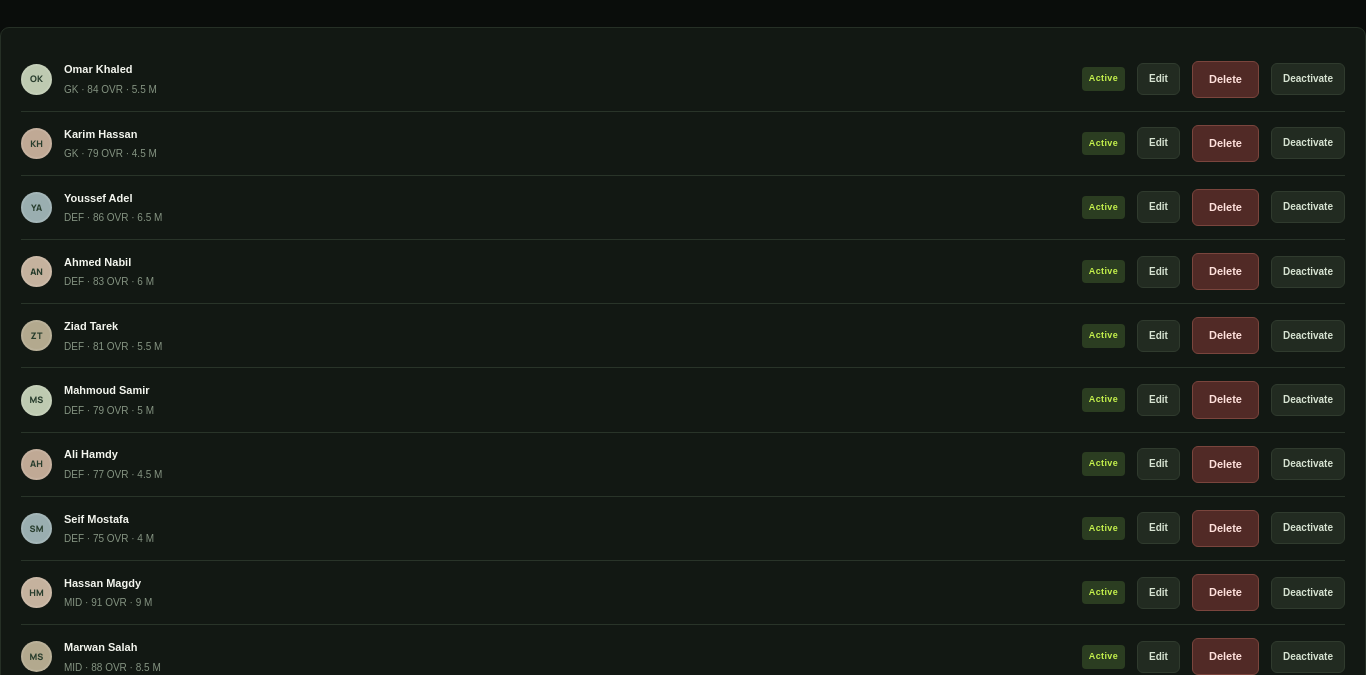
Test case: player management form actions › requires confirmation and removes an edited player from the active market
This screenshot has width=1366, height=675.
Click the button "Edit" in the row of "Omar Khaled" at (1158, 79), box [1137,63,1180,95]
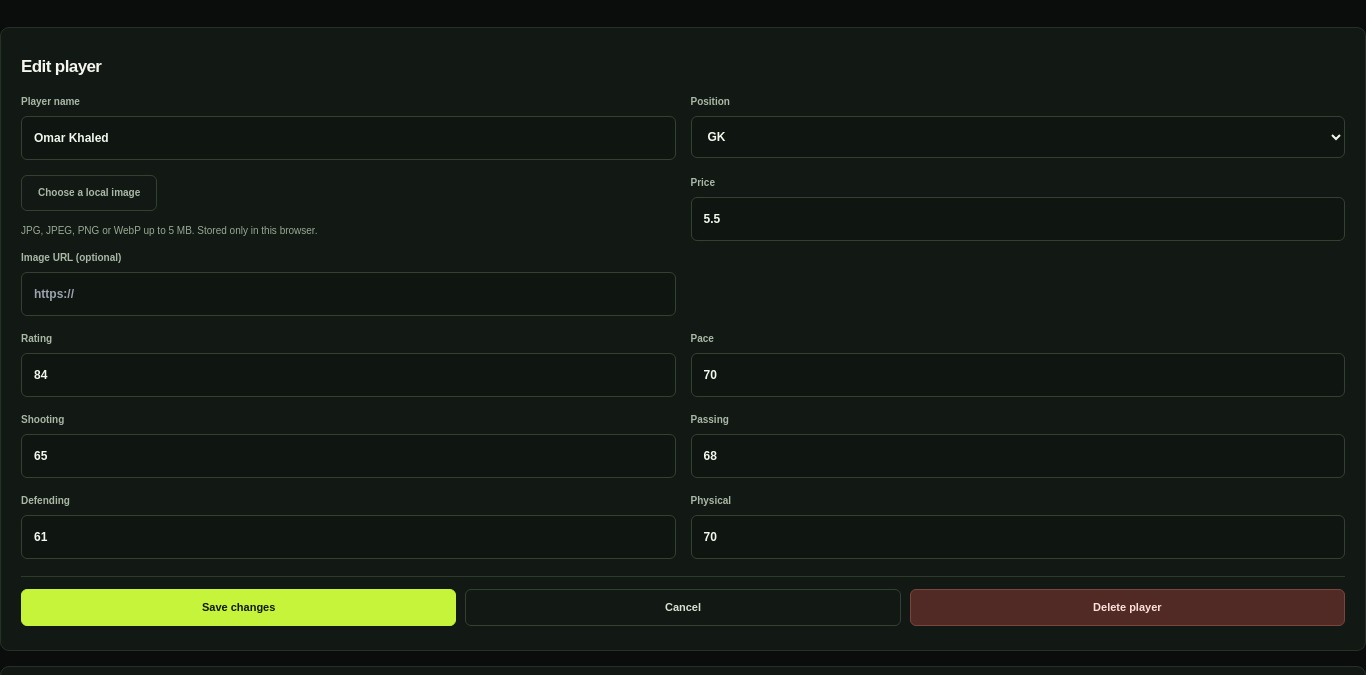
Click the button "Delete player" at (1127, 608), box [910,589,1345,626]
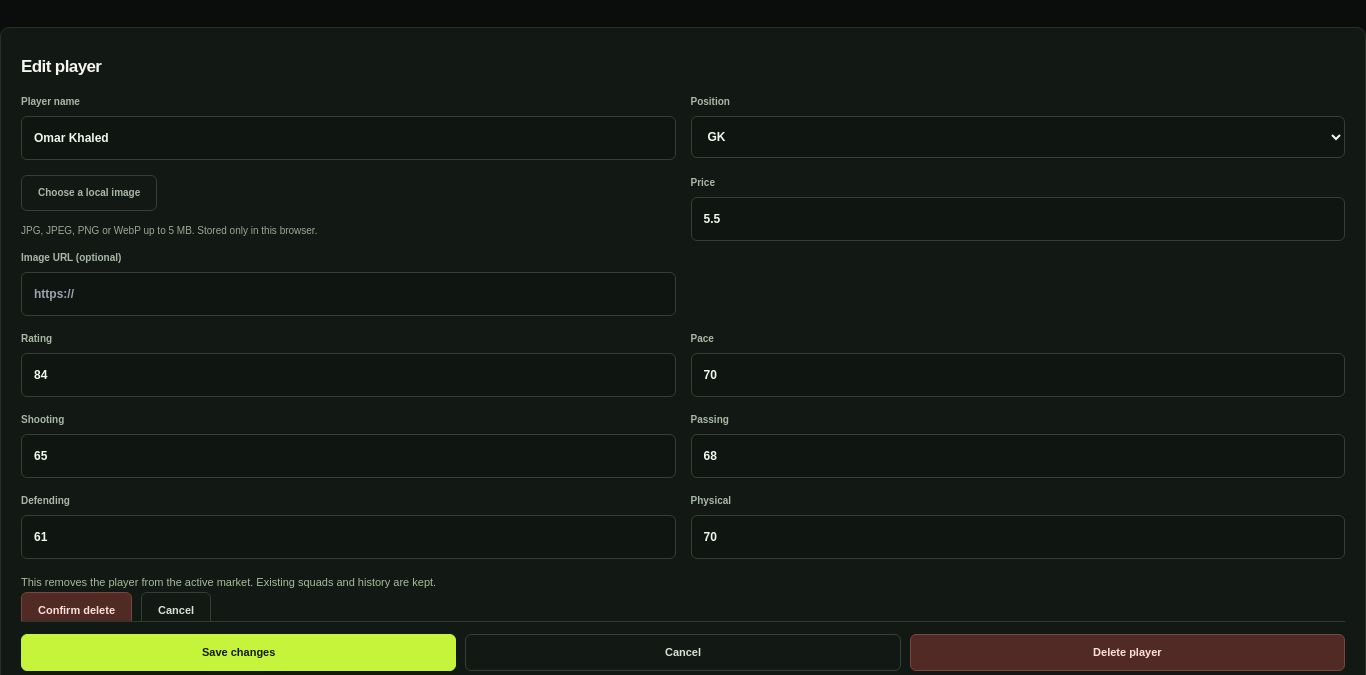
Now the text "removes the player from the active market" is shown, box [21,576,436,588]
Click the button "Confirm delete" at (76, 610), box [21,592,132,629]
(page scrolled)
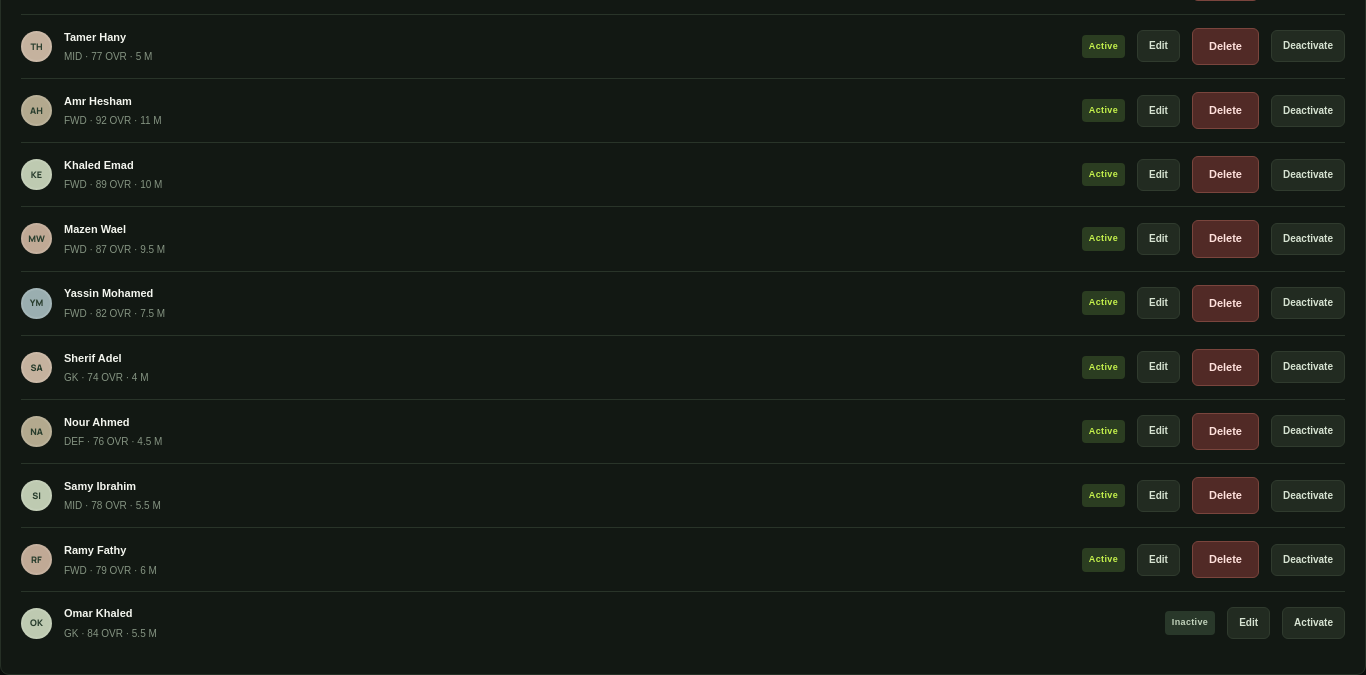
Expected: the button "Activate" is shown, [1282,607,1345,639]
Now the button "Save changes" is gone
